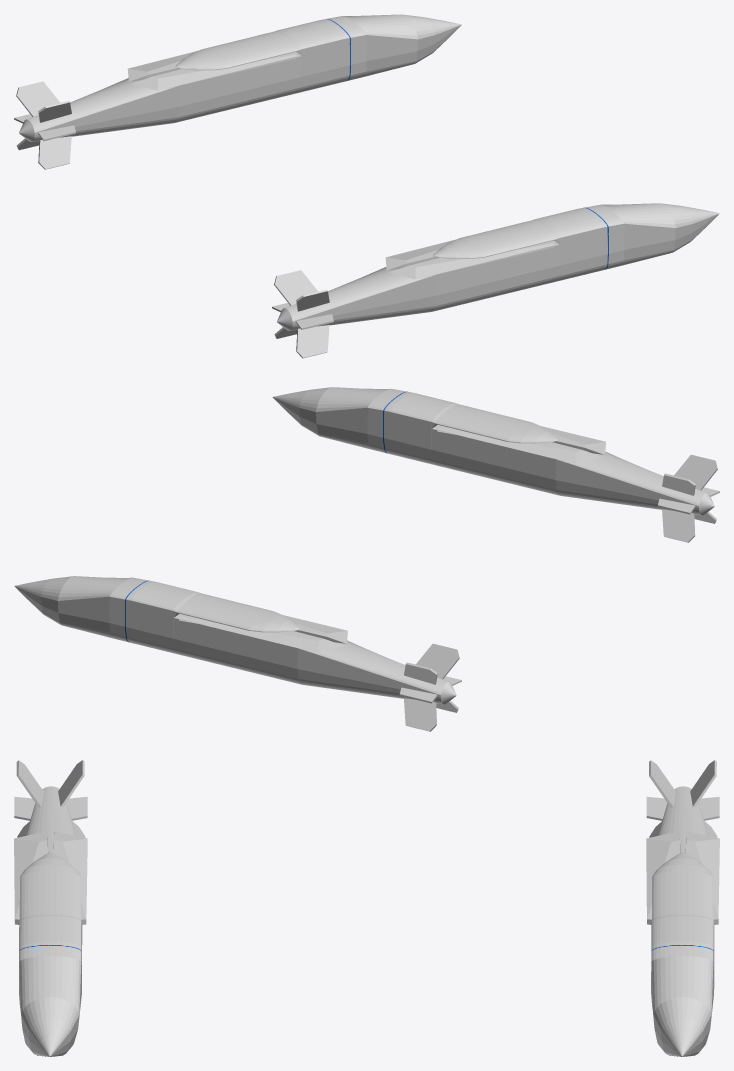
Rendered from f15eagm15415.glb.
3 views of the same model, one above another, from view 1: azimuth 30°, elevation 25°; view 2: azimuth 150°, elevation 25°; view 3: azimuth 270°, elevation 25° (orthographic). The views are drawn at different scales.
Parts seen in each view (by area): view 1: 立方体.008, 立方体.001; view 2: 立方体.008, 立方体.001; view 3: 立方体.001, 立方体.008.
Boxes of the visible parts, box(x1,y1,x2,y2) form: 立方体.008: box(272, 203, 719, 358); 立方体.001: box(14, 14, 461, 169); 立方体.008: box(272, 387, 719, 542); 立方体.001: box(14, 576, 461, 731); 立方体.001: box(646, 760, 719, 1056); 立方体.008: box(14, 760, 87, 1056).
Bounding box in the file's own units: 5.26 × 0.7224 × 5.92.
Materials: 5 (1 with a texture image).
